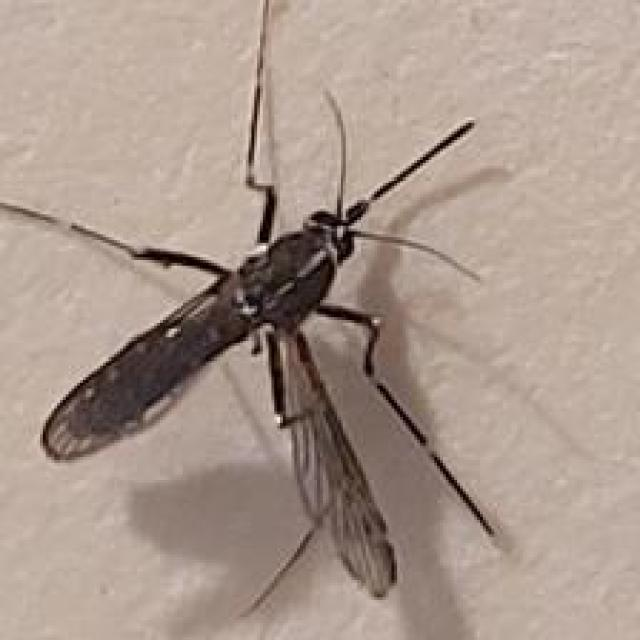Aedes albopictus: (0, 0, 509, 617)
